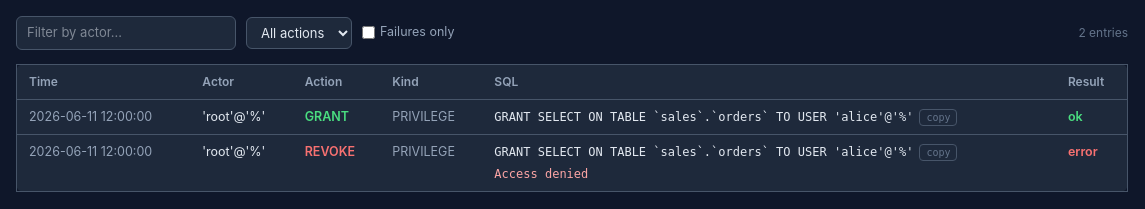
Test case: AuditTab › failures-only toggle hides successful entries client-side
This screenshot has width=1145, height=209.
Click the checkbox with test id "audit-failures-only": point(368, 33) [362,26,375,39]
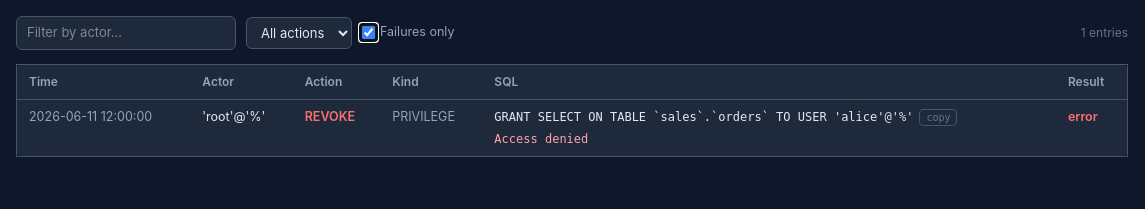
Expected: the number of rows with test id "audit-row" is 1, [16,99,1128,156]
Expected: the row with test id "audit-row" shows "REVOKE", [305,108,355,124]
